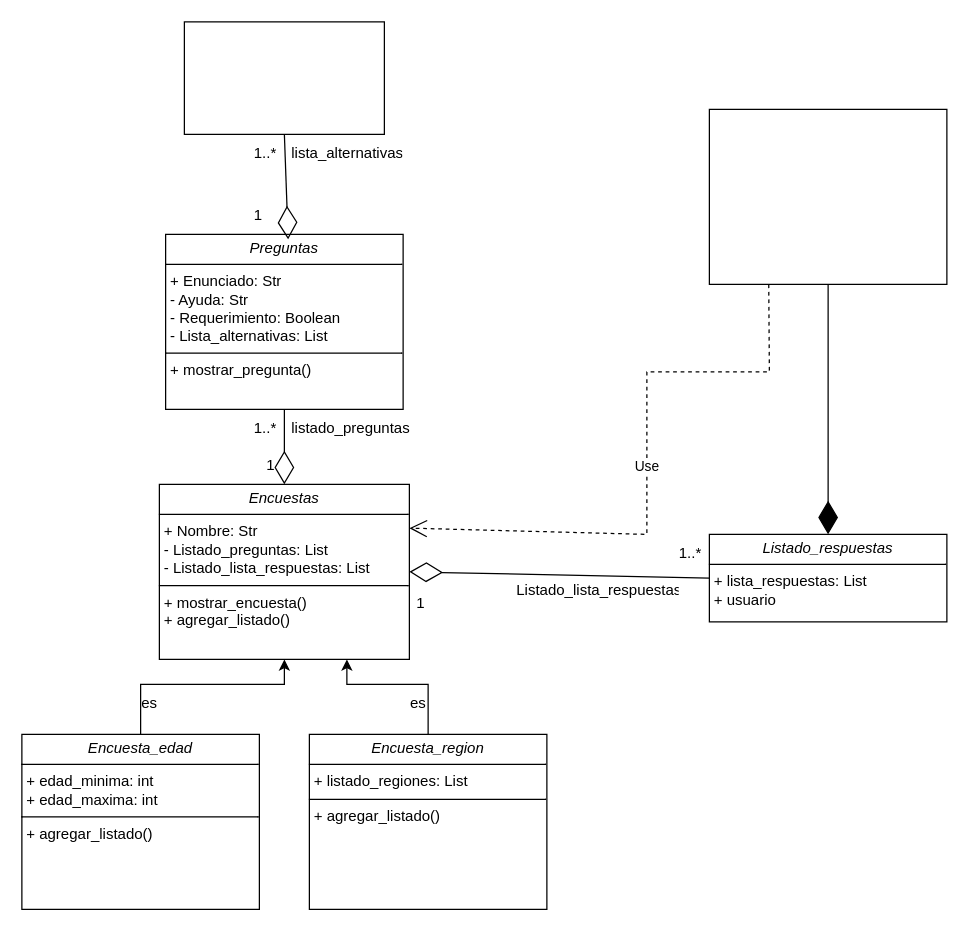
The diagram is 969 pixels wide and 931 high, and some of its shapes have lost their labels. The shapes that lost their labels are listed below. From the top down, each one's centre as x and y in pixels, then its label:
At [283,77]: "Alternativas - Contenido: Str - Ayuda: Str + mostrar_alternativa()".
At [827,196]: "Usuario - correo: str - edad: int - region: int + contestar_encuesta()".
